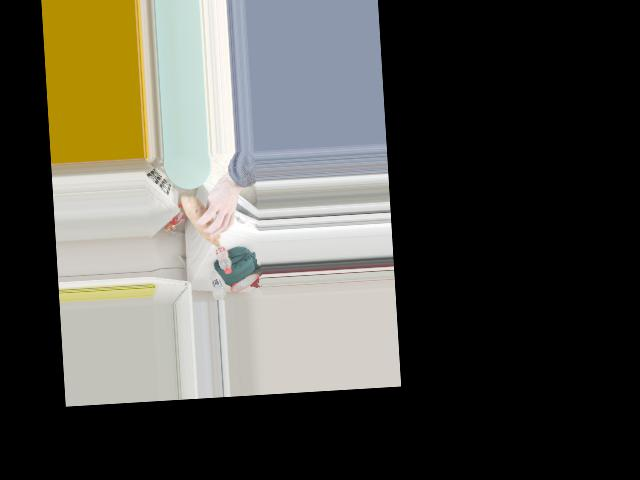sweet_potato: (181, 200, 227, 247)
